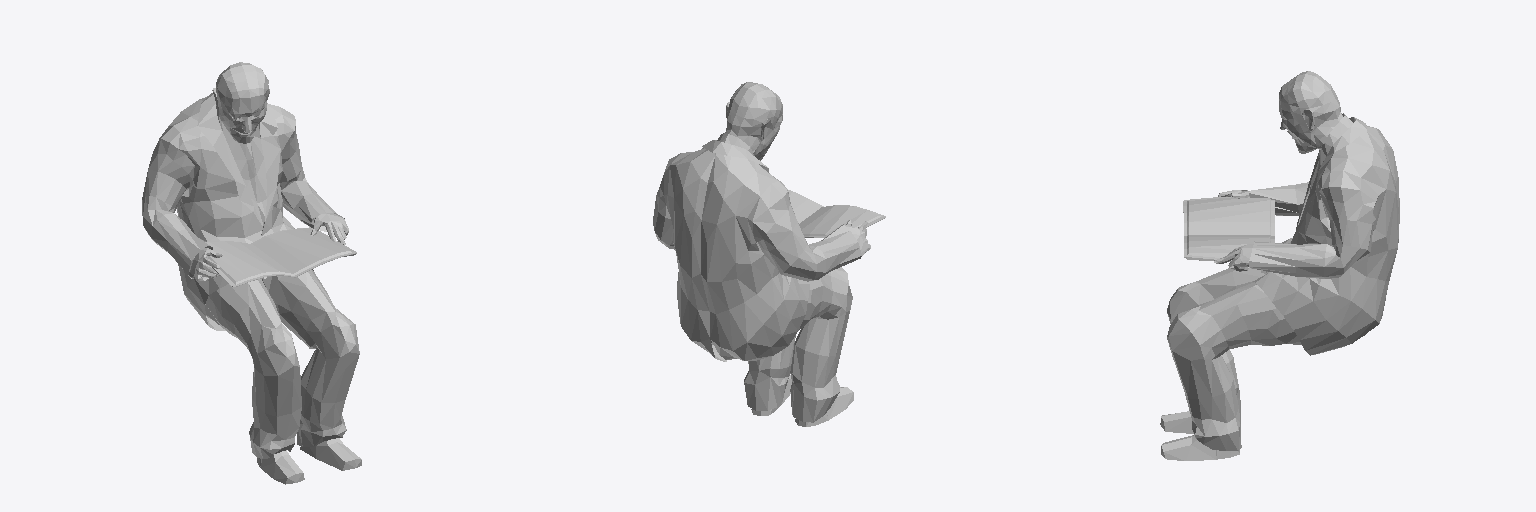
The model's file is BMan0009-Se.obj.
3 renders of one model, left to right at view 1: azimuth 30°, elevation 25°; view 2: azimuth 150°, elevation 25°; view 3: azimuth 270°, elevation 25°, orthographic.
Visible parts, largest first — view 1: bman0009_se_Imported_OBJ_Object; view 2: bman0009_se_Imported_OBJ_Object; view 3: bman0009_se_Imported_OBJ_Object.
Part boxes in pixels (bbox=[...]): bman0009_se_Imported_OBJ_Object: bbox=[142, 62, 361, 484]; bman0009_se_Imported_OBJ_Object: bbox=[653, 82, 885, 426]; bman0009_se_Imported_OBJ_Object: bbox=[1160, 71, 1399, 460].
Bounding box in the file's own units: 0.6246 × 1.33 × 0.7966.